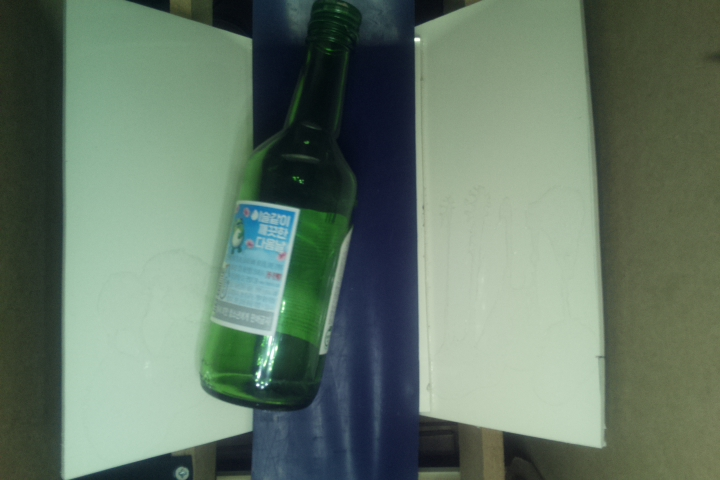soju: (195, 1, 372, 413)
